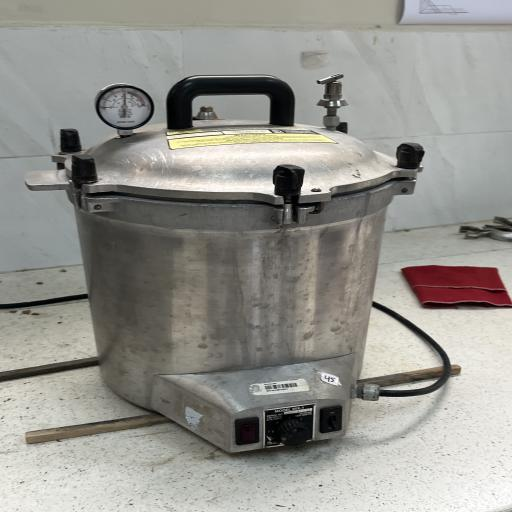Autoclave: (20, 64, 414, 469)
